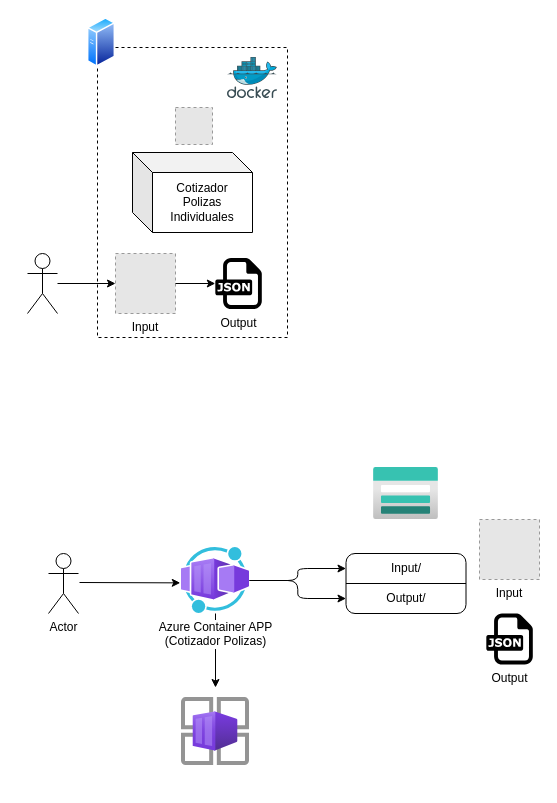
The diagram is 557 pixels wide and 803 high, and some of its shapes have lost their labels. Grey dashed boxes stand in for pictures. The centre of each missing label's shape, as x and y in pixels:
Asesores: (42,283)
Environment: (215,731)
Storage Account: (405,493)
